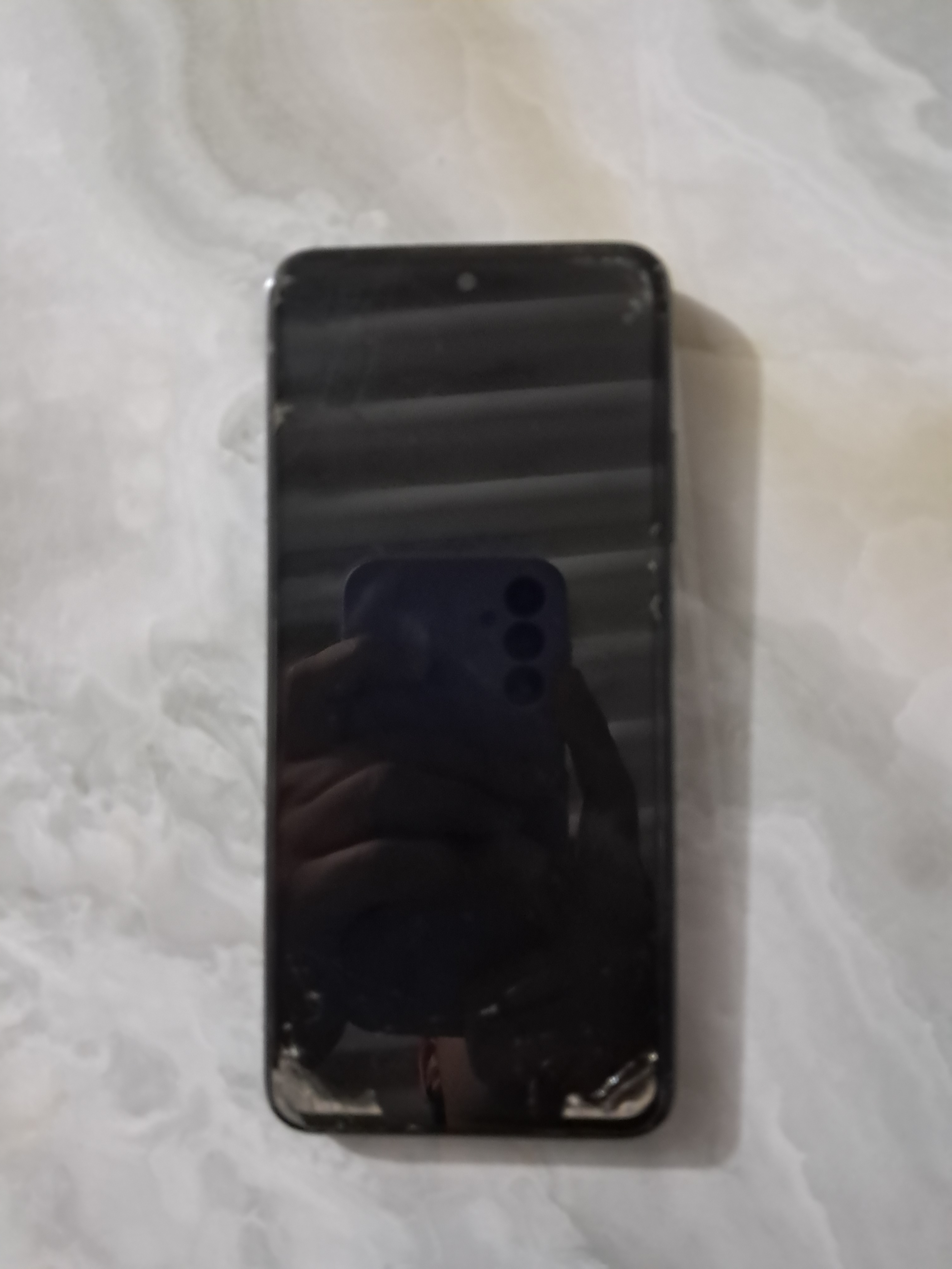phone: (264, 242, 674, 1140)
